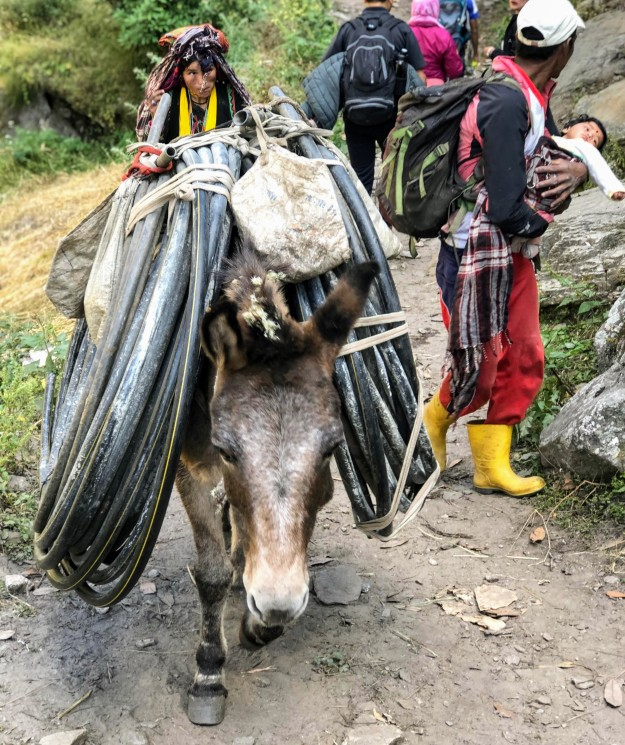equine: (33, 89, 502, 726)
human: (402, 1, 622, 490), (316, 1, 437, 204), (129, 17, 272, 148), (524, 105, 625, 219)
